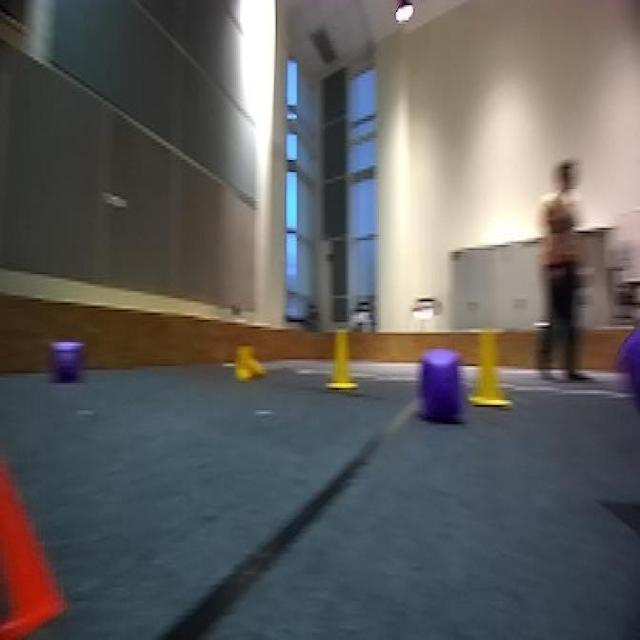frc_cone: (472, 330, 509, 410), (323, 325, 359, 392), (230, 342, 268, 383)
frc_cube: (420, 349, 464, 422), (613, 320, 640, 429), (52, 339, 80, 386)
